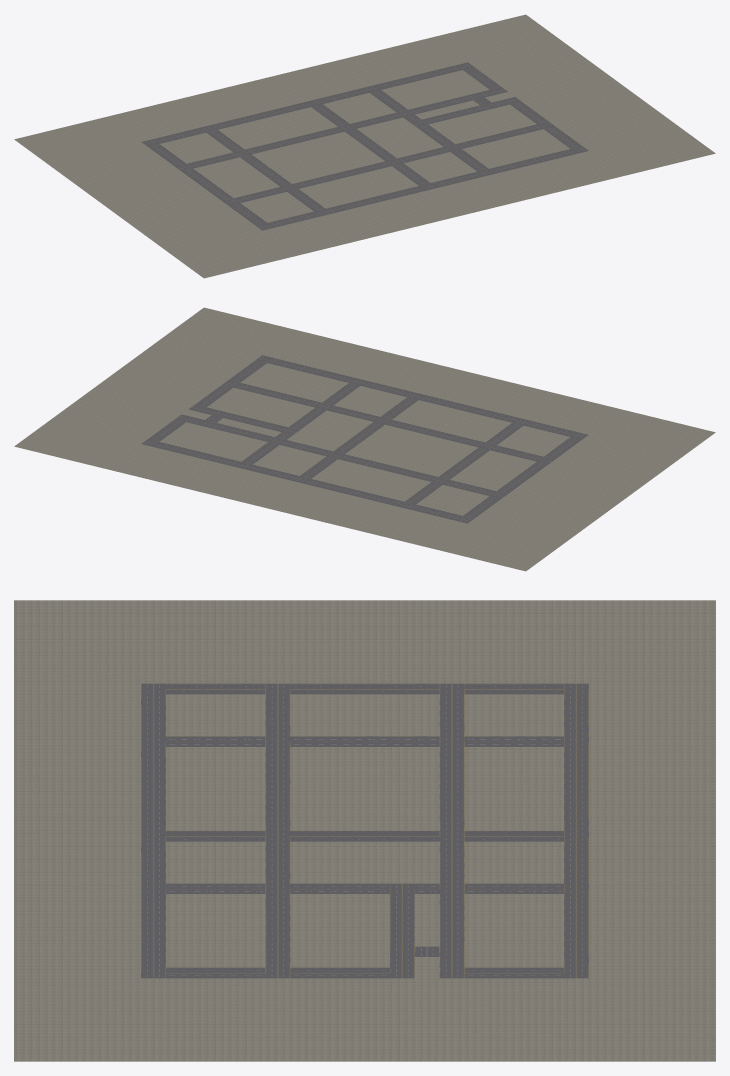
File: FLOORWITHPHYICSPLZ.glb
3 views of the same model, one above another, from view 1: azimuth 30°, elevation 25°; view 2: azimuth 150°, elevation 25°; view 3: azimuth 270°, elevation 25° (orthographic). The views are drawn at different scales.
Visible parts, largest first — view 1: Plane.000, Plane.149; view 2: Plane.000, Plane.149; view 3: Plane.000, Plane.149.
Part boxes in pixels (bbox=[...]): Plane.000: bbox=[14, 14, 715, 278]; Plane.149: bbox=[141, 62, 587, 230]; Plane.000: bbox=[14, 307, 715, 571]; Plane.149: bbox=[142, 355, 588, 523]; Plane.000: bbox=[14, 600, 715, 1061]; Plane.149: bbox=[141, 684, 588, 978].
Size of the model in its own units: 390 by 0.1174 by 251.
2 materials, 2 textured.
